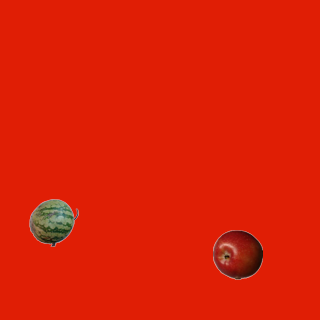Apple Braeburn: (212, 229, 262, 279)
Watermelon: (28, 197, 78, 247)
